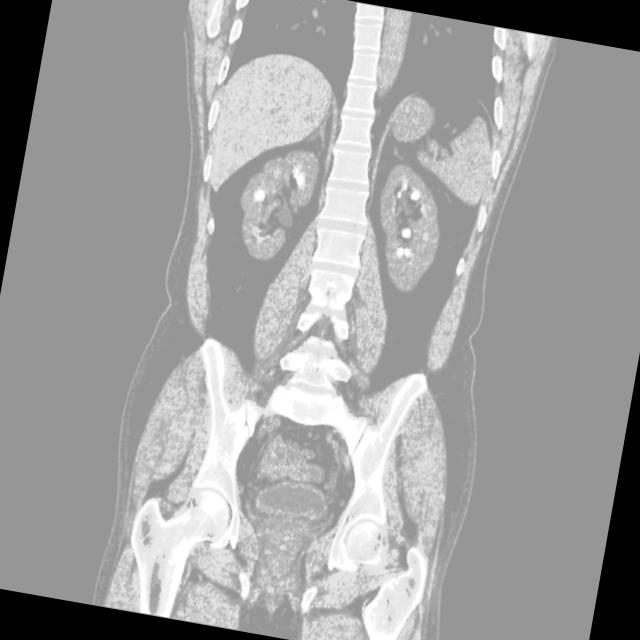STONE: (201, 100, 491, 304)
